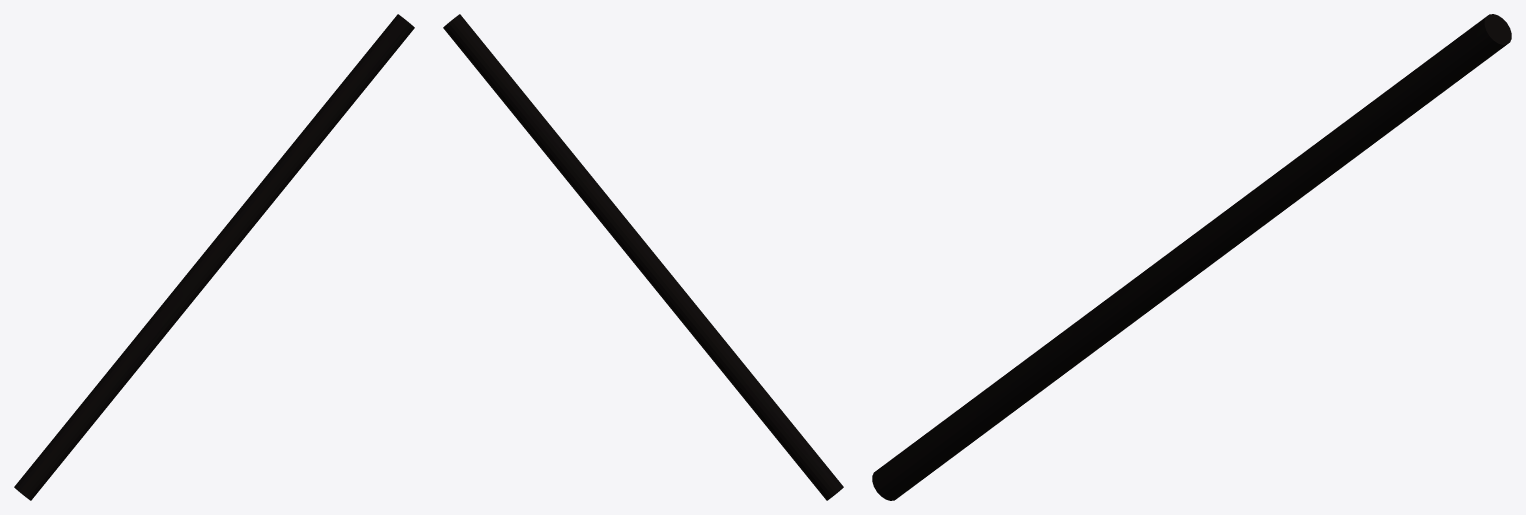
File: arco.obj
The picture shows the model from 3 angles, left to right: view 1: azimuth 30°, elevation 25°; view 2: azimuth 150°, elevation 25°; view 3: azimuth 330°, elevation 25°; orthographic projection. The views are drawn at different scales.
Parts seen in each view (by area): view 1: arco; view 2: arco; view 3: arco.
Boxes of the visible parts, x1,y1,x2,y2 form: arco: (14,14,414,500); arco: (443,14,843,500); arco: (872,14,1511,500).
Size of the model in its own units: 0.7443 by 0.7058 by 0.036.
Materials: 1 (1 with a texture image).
